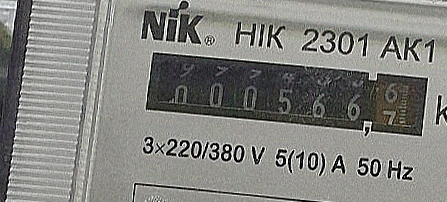0: (240, 82, 261, 112), (207, 78, 226, 108), (171, 80, 192, 104)
5: (275, 85, 296, 115)
6: (344, 89, 366, 122), (308, 89, 330, 119), (384, 80, 402, 106)
7: (381, 107, 398, 127)
9: (177, 58, 197, 80)
screen: (136, 43, 435, 145)
